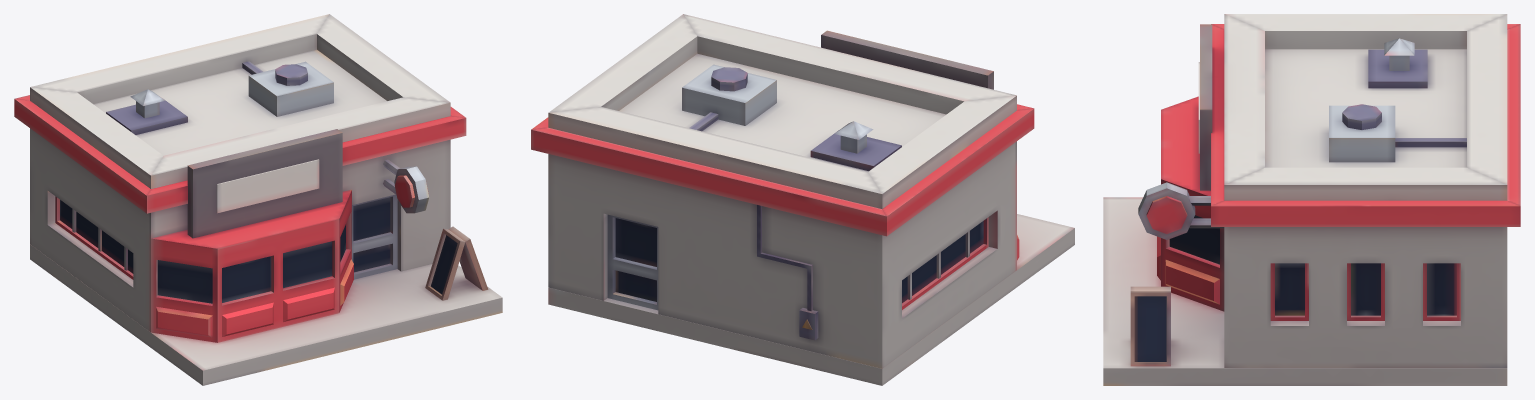
File: Building_Shop_1_D.fbx
The picture shows the model from 3 angles, left to right: view 1: azimuth 30°, elevation 25°; view 2: azimuth 150°, elevation 25°; view 3: azimuth 270°, elevation 25°; orthographic projection. The views are drawn at different scales.
Visible parts, largest first — view 1: Building_Shop_1_D; view 2: Building_Shop_1_D; view 3: Building_Shop_1_D.
Part boxes in pixels (x1,y1,x2,y2): Building_Shop_1_D: [14, 14, 502, 385]; Building_Shop_1_D: [531, 14, 1074, 385]; Building_Shop_1_D: [1103, 14, 1520, 385].
Bounding box in the file's own units: 1066 × 594 × 1033.
